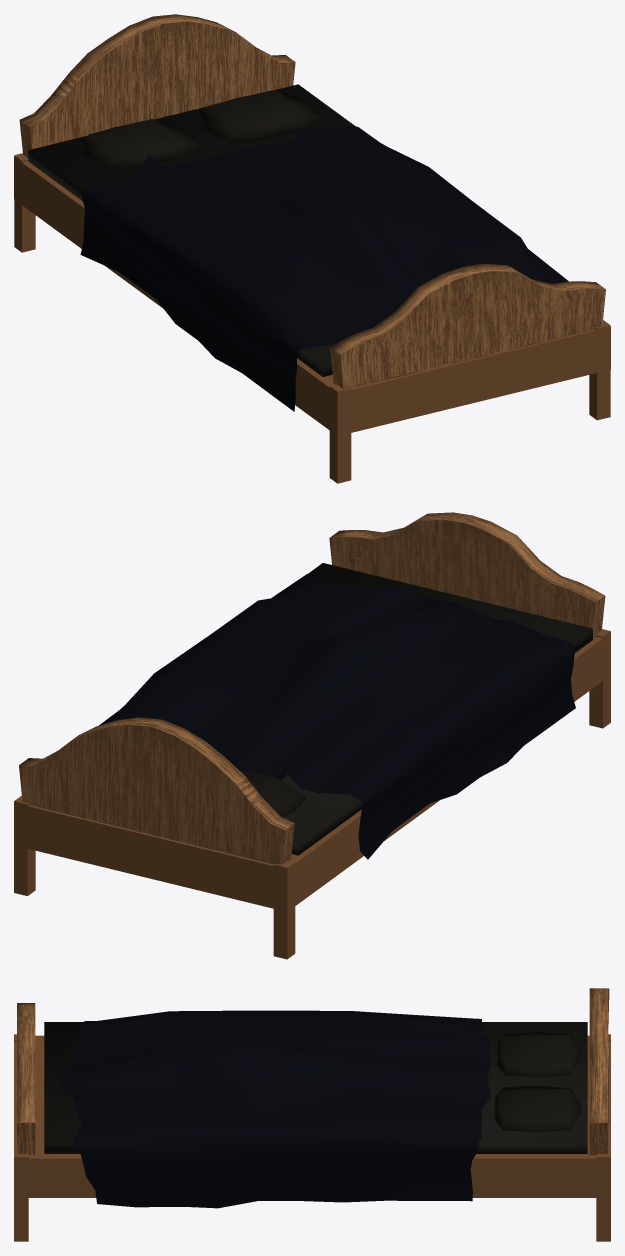
File: RPG-Bed.obj
The picture shows the model from 3 angles, top to bottom: view 1: azimuth 30°, elevation 25°; view 2: azimuth 150°, elevation 25°; view 3: azimuth 270°, elevation 25°; orthographic projection. The views are drawn at different scales.
Parts seen in each view (by area): view 1: Foot_Cylinder.001, real_matress_Cube.007; view 2: Foot_Cylinder.001, real_matress_Cube.007; view 3: Foot_Cylinder.001, real_matress_Cube.007.
Boxes of the visible parts, left/top/right/bottom form: Foot_Cylinder.001: left=14, top=14, right=610, bottom=483; real_matress_Cube.007: left=28, top=84, right=355, bottom=376; Foot_Cylinder.001: left=14, top=512, right=610, bottom=959; real_matress_Cube.007: left=281, top=563, right=592, bottom=855; Foot_Cylinder.001: left=14, top=988, right=610, bottom=1241; real_matress_Cube.007: left=44, top=1022, right=587, bottom=1153.
Bounding box in the file's own units: 2.11 × 1.38 × 4.1.
Materials: 6 (3 with a texture image).
